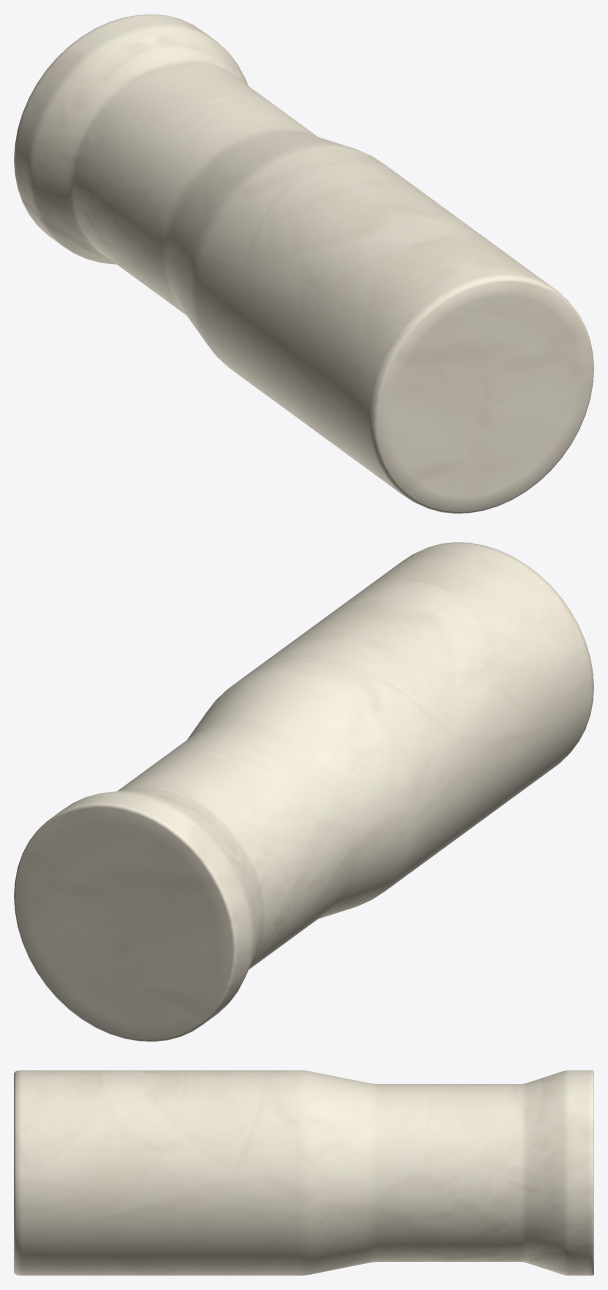
The model's file is PART1 (SUBDIVISION).glb.
3 views of the same model, one above another, from view 1: azimuth 30°, elevation 25°; view 2: azimuth 150°, elevation 25°; view 3: azimuth 270°, elevation 25° (orthographic). The views are drawn at different scales.
Parts seen in each view (by area): view 1: CANADARM HD.001; view 2: CANADARM HD.001; view 3: CANADARM HD.001.
Boxes of the visible parts, x1=… form: CANADARM HD.001: x1=14, y1=14, x2=593, y2=513; CANADARM HD.001: x1=14, y1=542, x2=593, y2=1041; CANADARM HD.001: x1=14, y1=1070, x2=593, y2=1275.
Bounding box in the file's own units: 0.1516 × 0.1512 × 0.4265.
Materials: 1 (1 with a texture image).
